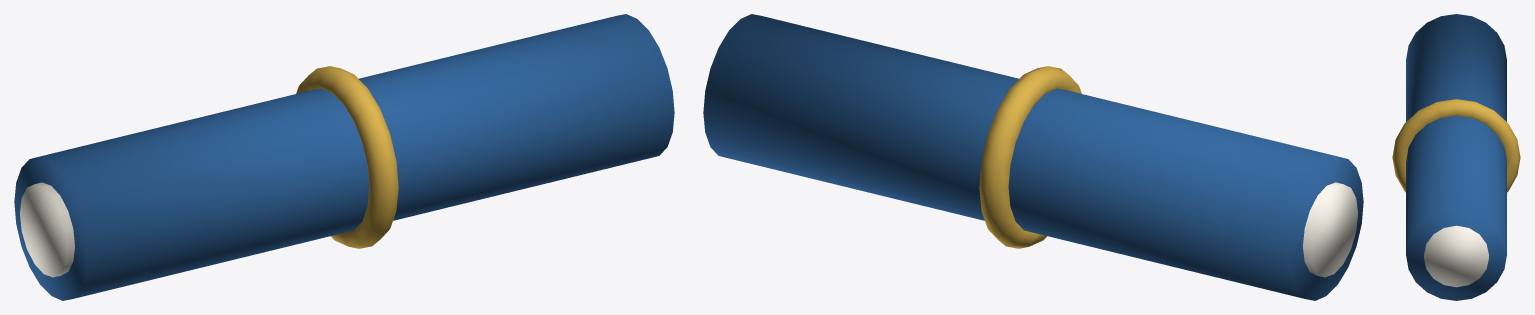
The model's file is Doc_RolledBlueprint.fbx.
3 renders of one model, left to right at view 1: azimuth 30°, elevation 25°; view 2: azimuth 150°, elevation 25°; view 3: azimuth 270°, elevation 25°, orthographic. The views are drawn at different scales.
Visible parts, largest first — view 1: Rolled_Tube, Rolled_BrassBand, Rolled_Core; view 2: Rolled_Tube, Rolled_BrassBand, Rolled_Core; view 3: Rolled_Tube, Rolled_BrassBand, Rolled_Core.
Boxes of the visible parts, x1,y1,x2,y2 form: Rolled_Tube: (14,14,674,300); Rolled_BrassBand: (296,66,398,248); Rolled_Core: (20,182,74,277); Rolled_Tube: (703,14,1363,300); Rolled_BrassBand: (979,66,1081,248); Rolled_Core: (1303,182,1357,277); Rolled_Tube: (1406,14,1506,300); Rolled_BrassBand: (1392,99,1520,192); Rolled_Core: (1424,225,1488,287).
Size of the model in its own units: 8 by 2.16 by 2.16.
